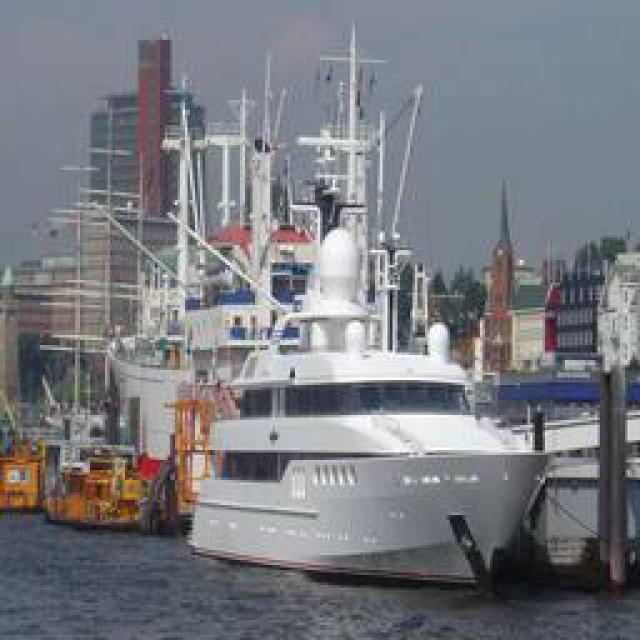Ship: (196, 196, 551, 589)
